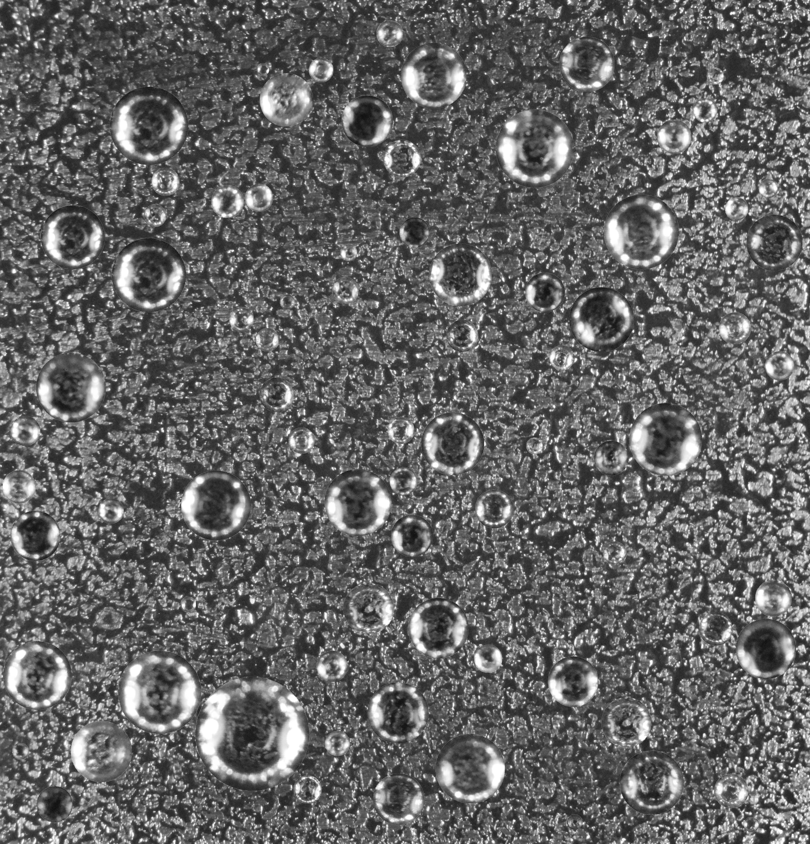Bubble: (195, 677, 309, 790), (118, 650, 201, 733), (109, 86, 188, 164), (495, 109, 573, 187), (604, 194, 678, 269), (111, 238, 185, 312), (629, 403, 702, 475), (36, 352, 105, 422), (181, 470, 250, 540), (435, 734, 504, 803), (3, 641, 71, 709), (324, 469, 391, 536), (401, 42, 466, 108), (40, 205, 104, 269), (569, 287, 633, 351), (619, 750, 683, 814), (421, 412, 484, 475), (429, 243, 491, 306), (735, 618, 796, 679), (70, 721, 131, 782), (367, 682, 428, 743), (408, 598, 468, 658), (746, 214, 802, 270), (559, 36, 614, 91), (259, 73, 312, 126), (373, 773, 424, 824), (341, 95, 392, 146), (10, 510, 60, 560), (548, 656, 598, 706), (601, 697, 651, 747), (343, 583, 393, 633), (391, 514, 433, 556), (525, 272, 564, 312), (475, 489, 513, 528), (383, 139, 420, 177), (755, 580, 791, 616), (36, 786, 72, 822), (259, 377, 294, 412), (714, 773, 748, 808), (594, 440, 628, 475), (657, 119, 691, 153), (2, 470, 35, 503), (699, 612, 732, 645), (446, 319, 478, 351), (211, 185, 243, 217), (719, 312, 750, 344), (316, 650, 347, 681), (399, 217, 429, 247), (10, 416, 40, 445), (765, 351, 794, 380), (151, 167, 179, 195), (474, 644, 502, 672), (389, 467, 417, 495), (293, 775, 321, 803), (245, 183, 272, 211), (387, 417, 414, 443), (376, 20, 403, 46), (331, 277, 358, 303), (288, 427, 314, 453), (98, 498, 123, 523), (549, 345, 574, 370), (309, 57, 333, 82), (229, 306, 253, 331), (325, 731, 349, 755), (693, 98, 717, 122), (255, 328, 279, 351), (603, 541, 626, 565), (725, 197, 748, 220), (143, 204, 166, 226), (758, 178, 778, 198), (340, 244, 357, 261), (707, 67, 723, 84), (526, 437, 542, 454), (12, 743, 28, 759), (743, 817, 759, 832), (180, 596, 195, 612), (279, 294, 294, 309), (567, 814, 582, 829), (256, 63, 269, 75), (133, 764, 142, 774)
